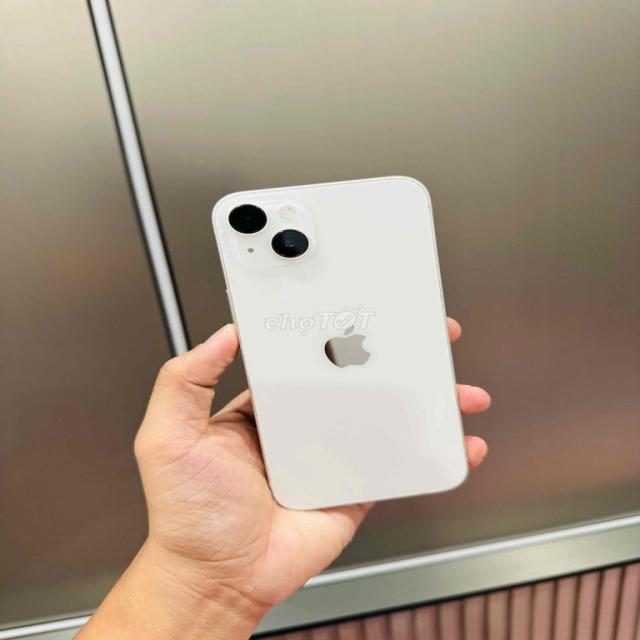gen_14: (196, 169, 490, 502)
